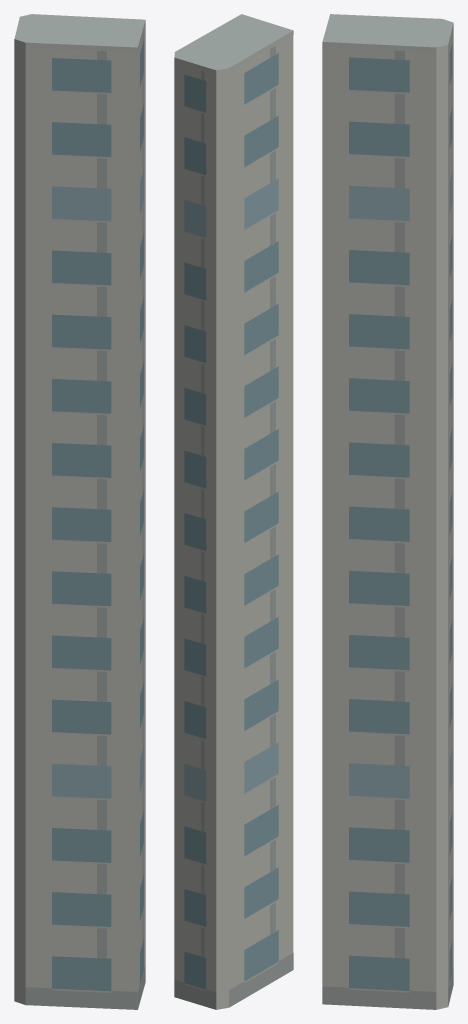
File: survey-upis-32649077.glb
3 views of the same model, side by side, from view 1: azimuth 90°, elevation 25°; view 2: azimuth 150°, elevation 25°; view 3: azimuth 270°, elevation 25° (orthographic). The views are drawn at different scales.
Parts seen in each view (by area): view 1: survey-upis-32649077.tmp; view 2: survey-upis-32649077.tmp; view 3: survey-upis-32649077.tmp.
Part boxes in pixels (left/top/right/bottom): survey-upis-32649077.tmp: left=14, top=14, right=145, bottom=1009; survey-upis-32649077.tmp: left=174, top=14, right=293, bottom=1009; survey-upis-32649077.tmp: left=322, top=14, right=453, bottom=1009.
Size of the model in its own units: 3.42 by 45.75 by 5.66.
